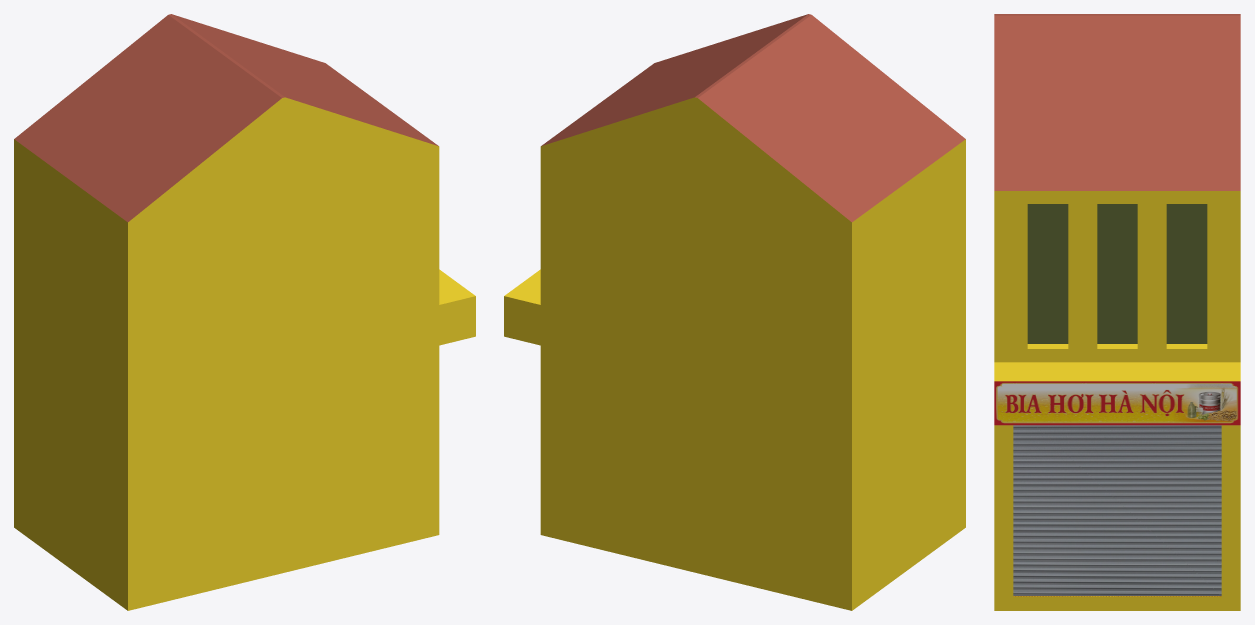
File: quan_bia_hoi.fbx
3 views of the same model, side by side, from view 1: azimuth 30°, elevation 25°; view 2: azimuth 150°, elevation 25°; view 3: azimuth 270°, elevation 25° (orthographic). The views are drawn at different scales.
Parts seen in each view (by area): view 1: quan_bia_hoi; view 2: quan_bia_hoi; view 3: quan_bia_hoi.
Boxes of the visible parts, x1=… form: quan_bia_hoi: x1=14, y1=14, x2=475, y2=610; quan_bia_hoi: x1=504, y1=14, x2=965, y2=610; quan_bia_hoi: x1=994, y1=14, x2=1240, y2=610.
Size of the model in its own units: 1434 by 1872 by 813.
